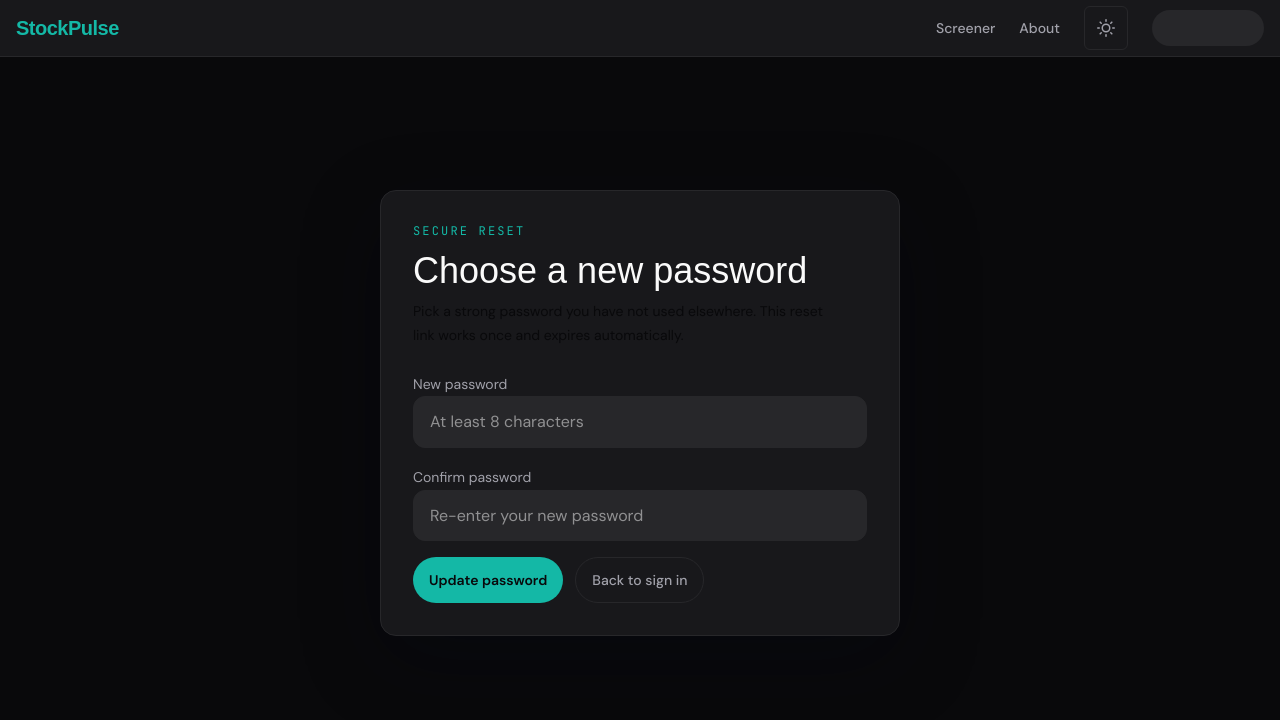
PasswordResetPage › confirms a password reset from the emailed link state
In the password field with placeholder "At least 8 characters": (640, 422) [413,396,867,448], type "NewStockPulse123!"
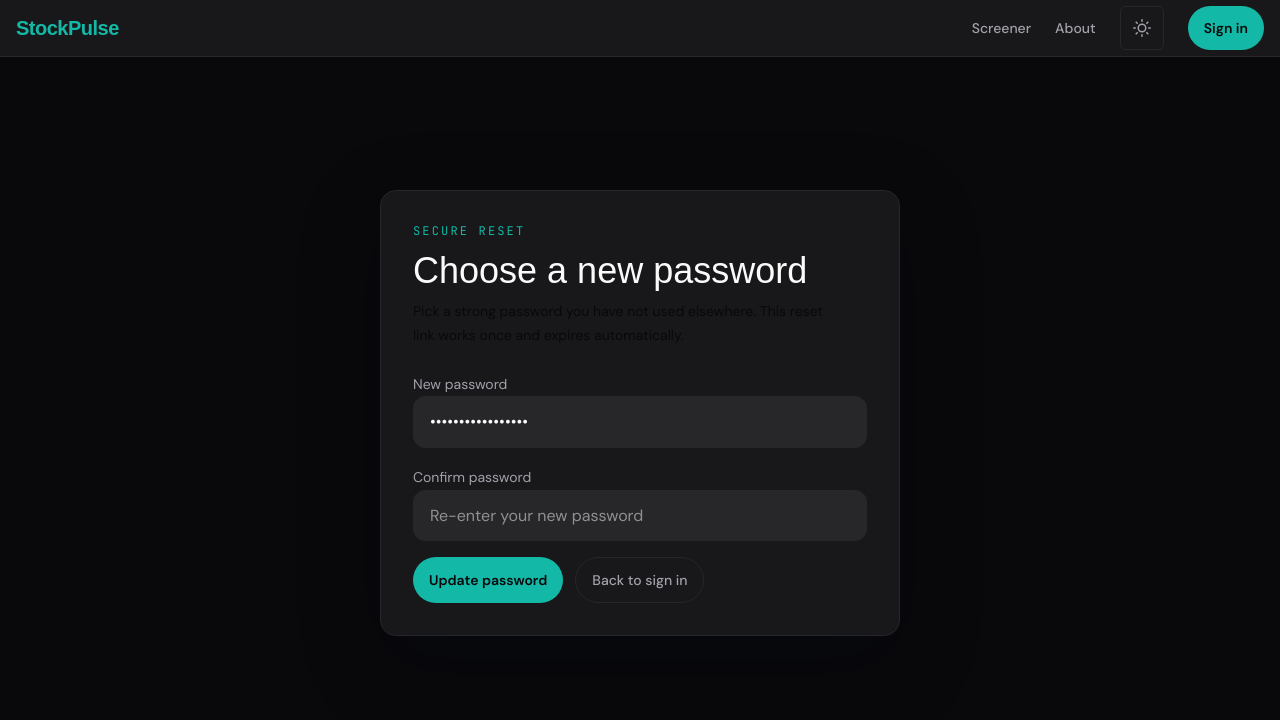
In the password field with placeholder "Re-enter your new password": (640, 515) [413,490,867,541], type "NewStockPulse123!"
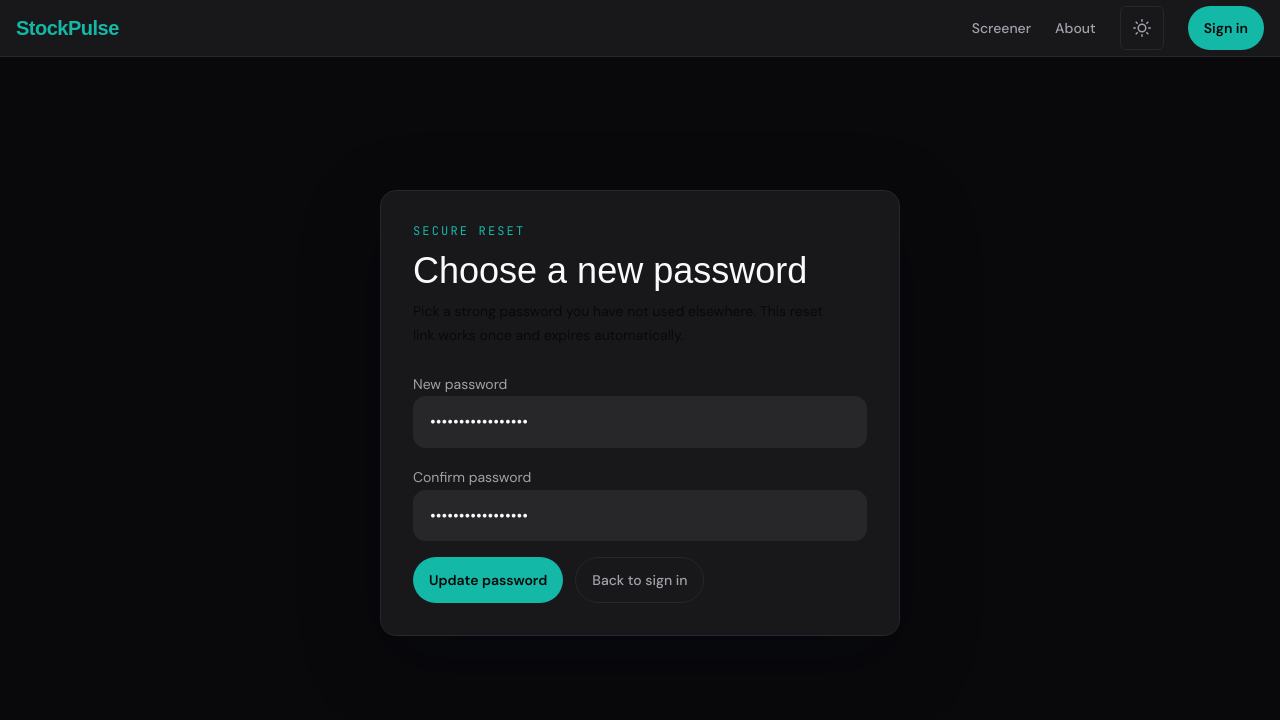
Click the button "Update password": (488, 580) [413,557,563,603]
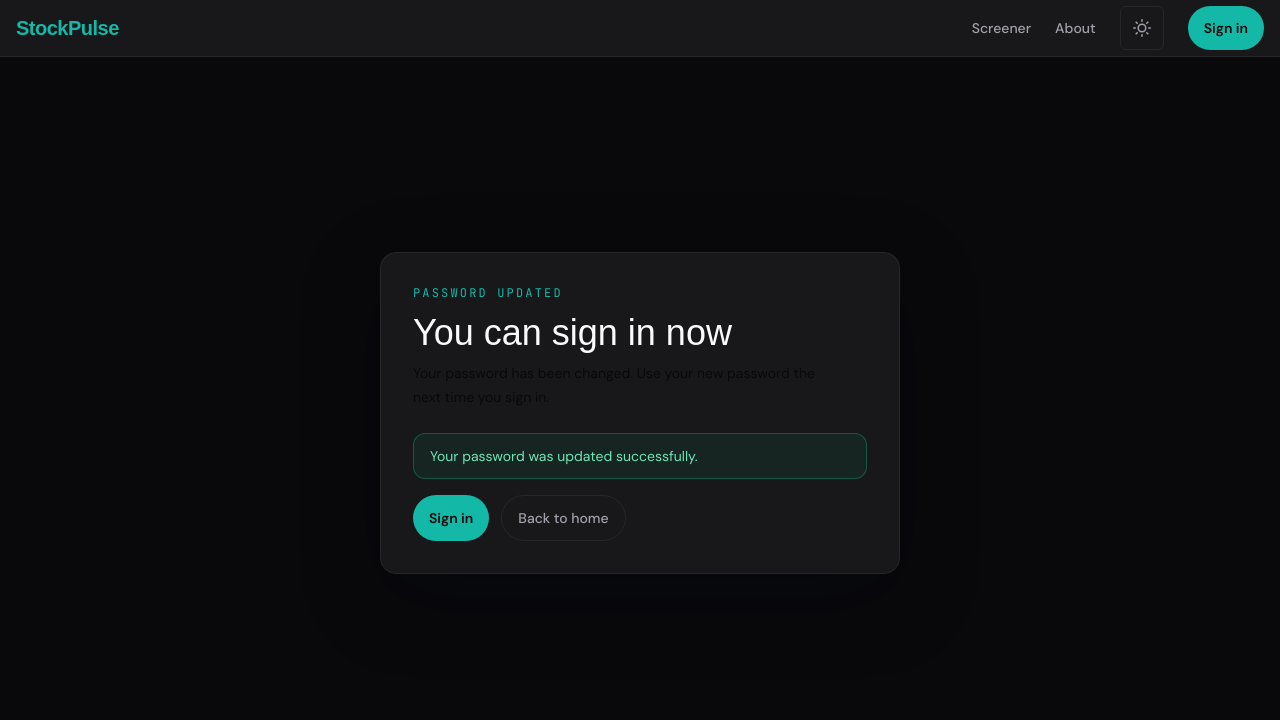
Now the heading "You can sign in now" is shown, box [413,312,732,353]
Now the text "Your password was updated successfully." is shown, box [413,433,867,479]
